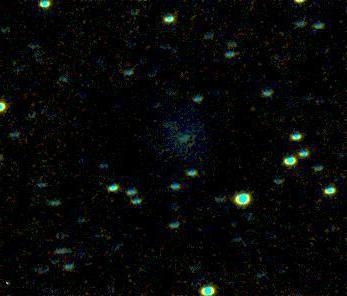star: (175, 130, 205, 160)
